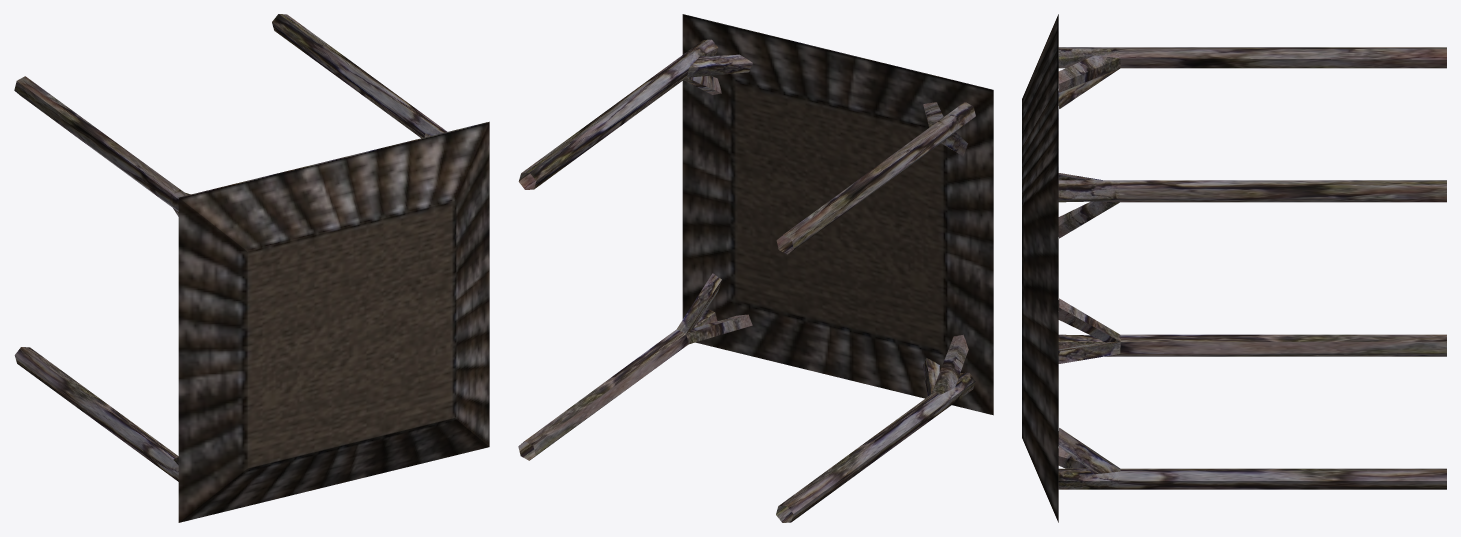
File: pav.obj
3 renders of one model, left to right at view 1: azimuth 30°, elevation 25°; view 2: azimuth 150°, elevation 25°; view 3: azimuth 270°, elevation 25°, orthographic. The views are drawn at different scales.
Parts seen in each view (by area): view 1: pavillion1_Cylinder.005; view 2: pavillion1_Cylinder.005; view 3: pavillion1_Cylinder.005.
Boxes of the visible parts, left/top/right/bottom form: pavillion1_Cylinder.005: left=14, top=14, right=489, bottom=522; pavillion1_Cylinder.005: left=518, top=14, right=993, bottom=522; pavillion1_Cylinder.005: left=1022, top=14, right=1446, bottom=522.
Size of the model in its own units: 1.88 by 1.88 by 2.09.
